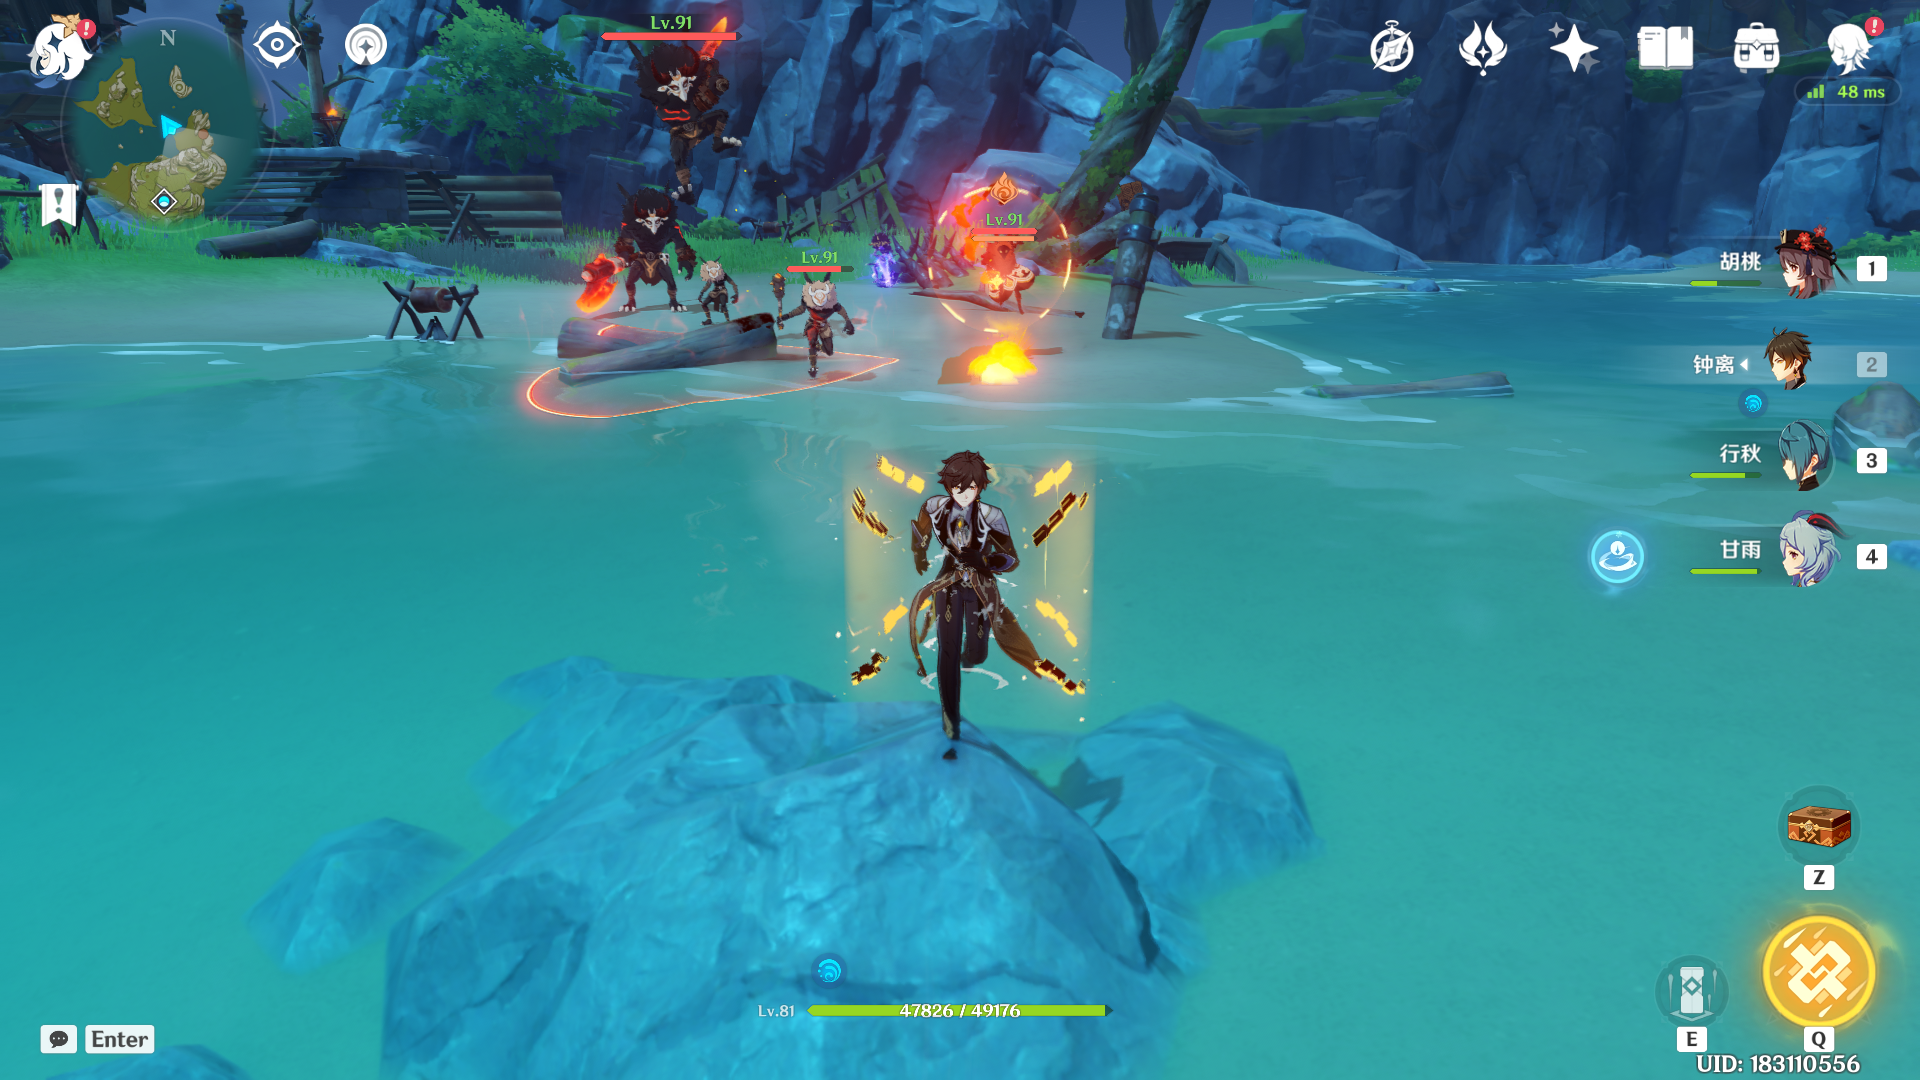bighili: (578, 1, 757, 191), (568, 182, 709, 353)
caster: (944, 204, 1062, 357)
character: (758, 405, 1122, 767)
hili: (761, 251, 884, 407), (665, 257, 767, 363)
